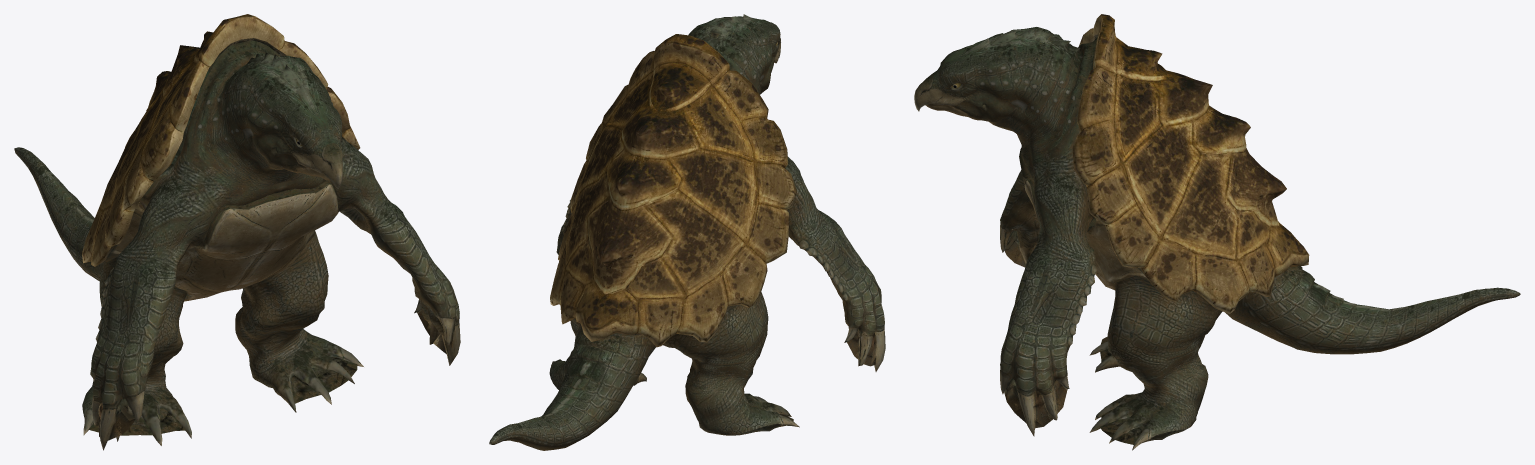
The model's file is terrorpin.obj.
3 views of the same model, side by side, from view 1: azimuth 30°, elevation 25°; view 2: azimuth 150°, elevation 25°; view 3: azimuth 270°, elevation 25° (orthographic). The views are drawn at different scales.
Parts seen in each view (by area): view 1: turle; view 2: turle; view 3: turle.
Boxes of the visible parts, x1,y1,x2,y2 form: turle: (14,14,460,450); turle: (489,14,885,450); turle: (914,14,1520,450).
Bounding box in the file's own units: 0.8873 × 0.957 × 1.39.
